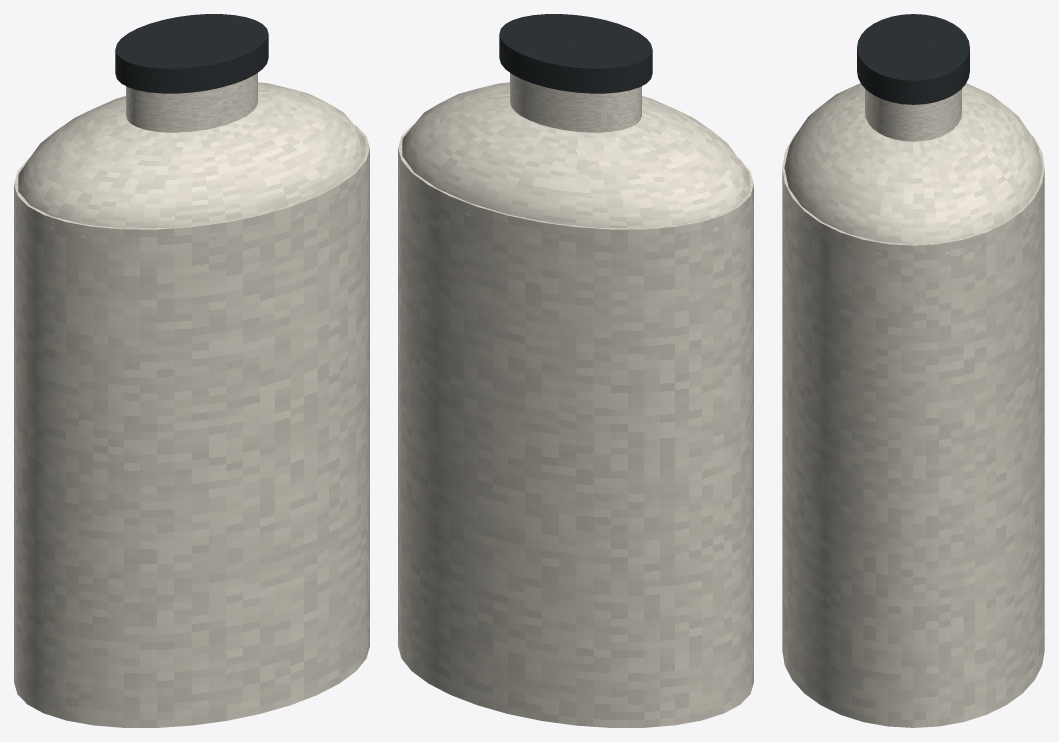
File: detergent.glb
3 renders of one model, left to right at view 1: azimuth 30°, elevation 25°; view 2: azimuth 150°, elevation 25°; view 3: azimuth 270°, elevation 25°, orthographic. The views are drawn at different scales.
Parts seen in each view (by area): view 1: body, shoulder, cap, neck; view 2: body, shoulder, cap, neck; view 3: body, shoulder, cap, neck.
Part boxes in pixels (x1=…): body: x1=14, y1=125, x2=369, y2=727; shoulder: x1=15, y1=82, x2=368, y2=244; cap: x1=115, y1=14, x2=268, y2=93; neck: x1=126, y1=73, x2=257, y2=132; body: x1=398, y1=125, x2=753, y2=727; shoulder: x1=399, y1=82, x2=752, y2=244; cap: x1=499, y1=14, x2=652, y2=93; neck: x1=510, y1=73, x2=641, y2=132; body: x1=782, y1=134, x2=1044, y2=727; shoulder: x1=784, y1=83, x2=1042, y2=257; cap: x1=857, y1=14, x2=969, y2=104; neck: x1=865, y1=89, x2=961, y2=141.
Size of the model in its own units: 0.21 by 0.38 by 0.15.
Materials: 2 (2 with a texture image).
